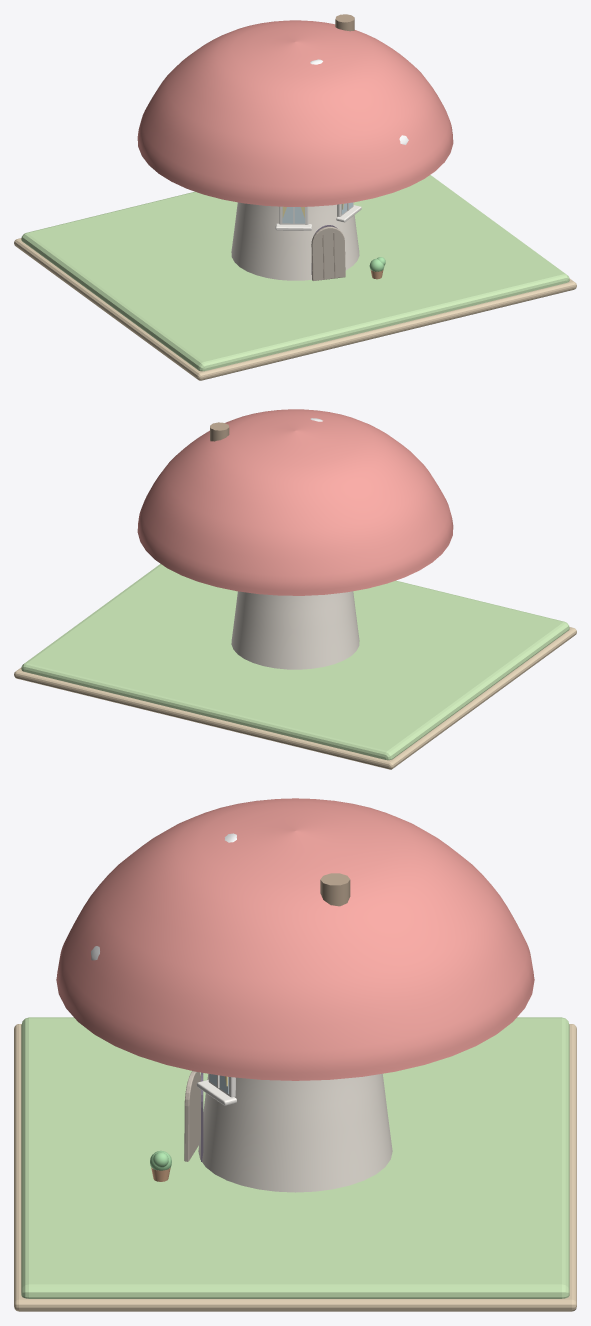
The model's file is building_forest_L05.glb.
The picture shows the model from 3 angles, top to bottom: view 1: azimuth 30°, elevation 25°; view 2: azimuth 150°, elevation 25°; view 3: azimuth 270°, elevation 25°; orthographic projection. The views are drawn at different scales.
Parts seen in each view (by area): view 1: forest_L5; view 2: forest_L5; view 3: forest_L5.
Boxes of the visible parts, x1=… form: forest_L5: x1=14, y1=14, x2=576, y2=380; forest_L5: x1=14, y1=409, x2=576, y2=769; forest_L5: x1=14, y1=798, x2=576, y2=1311.
Bounding box in the file's own units: 26.61 × 15.17 × 22.6.
